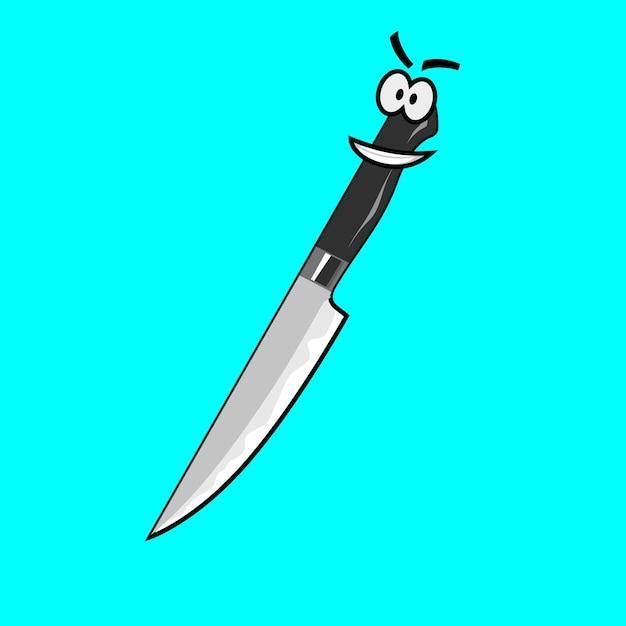faca: (147, 69, 437, 539)
